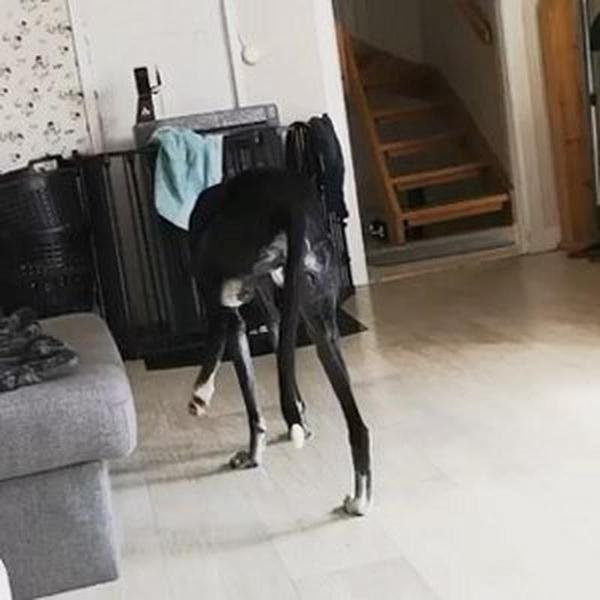allqu: (174, 161, 430, 533)
